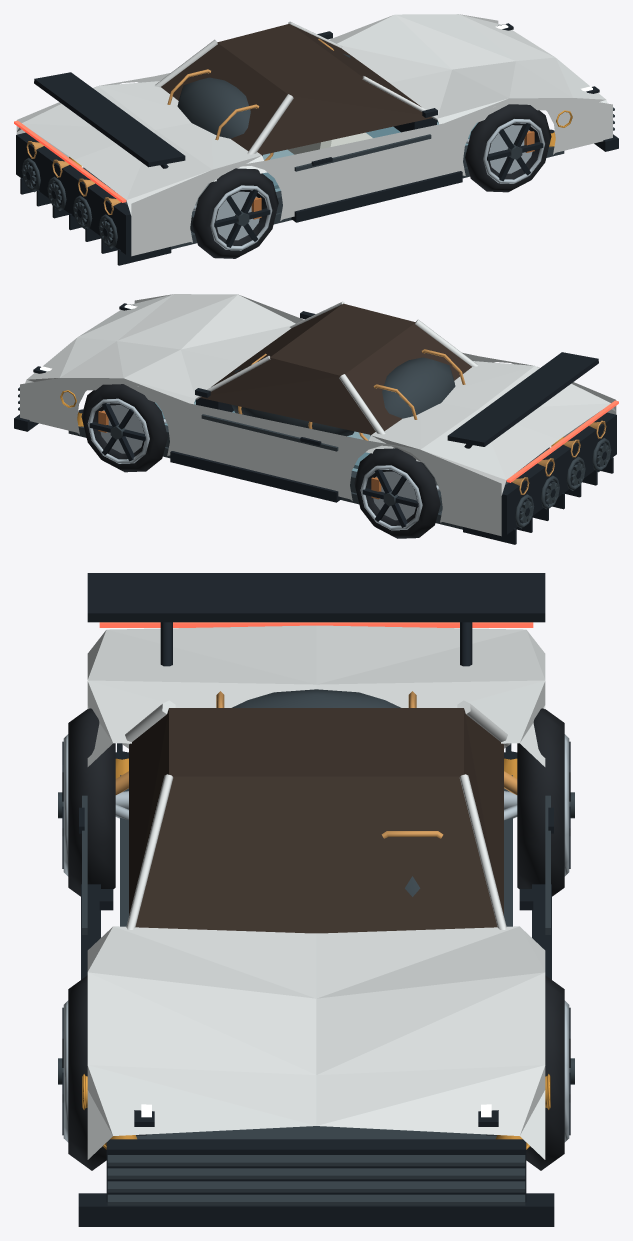
The model's file is roadster-rocket.glb.
3 renders of one model, top to bottom at view 1: azimuth 30°, elevation 25°; view 2: azimuth 150°, elevation 25°; view 3: azimuth 270°, elevation 25°, orthographic. The views are drawn at different scales.
Parts seen in each view (by area): view 1: body, Faceted_side_with_wheel_arches (×2), Faceted_tire (×2), Side_glazing, Glass_roof, Active_rear_wing_schematic, Rear_glass, Rear_fascia, Rear_COPV_200L_schematic, Wheel_rim (×2), Brake_disc (×2), canopy (+7 smaller); view 2: body, Faceted_side_with_wheel_arches (×2), Faceted_tire (×2), Side_glazing, Glass_roof, Active_rear_wing_schematic, Rear_glass, Rear_fascia, Rear_COPV_200L_schematic, Wheel_rim (×2), Brake_disc (×2), canopy (+8 smaller); view 3: body, Windshield, Active_rear_wing_schematic, Faceted_tire (×4), Glass_roof, Front_splitter, Front_intake, Side_glazing (×2), canopy, Carbon_floor, Rear_COPV_200L_schematic, Full_width_tail_light (+2 smaller).
Boxes of the visible parts, x1,y1,x2,y2 form: body: (17,14,614,222); Faceted_side_with_wheel_arches (×2): (16,14,612,256); Faceted_tire (×2): (192,104,551,258); Side_glazing: (257,78,432,154); Glass_roof: (217,23,362,95); Active_rear_wing_schematic: (34,72,185,167); Rear_glass: (161,43,287,150); Rear_fascia: (16,132,131,254); Rear_COPV_200L_schematic: (177,77,262,155); Wheel_rim (×2): (210,119,545,250); Brake_disc (×2): (216,125,532,240); canopy: (155,21,436,154); body: (18,294,615,502); Faceted_side_with_wheel_arches (×2): (20,294,616,536); Faceted_tire (×2): (81,384,440,538); Side_glazing: (200,357,375,434); Glass_roof: (270,303,415,375); Active_rear_wing_schematic: (447,352,598,446); Rear_glass: (345,322,471,430); Rear_fascia: (501,412,616,534); Rear_COPV_200L_schematic: (370,357,455,435); Wheel_rim (×2): (87,398,422,530); Brake_disc (×2): (100,405,416,520); canopy: (196,301,477,434); body: (81,625,551,1205); Windshield: (135,776,497,933); Active_rear_wing_schematic: (87,573,545,622); Faceted_tire (×4): (68,708,564,1170); Glass_roof: (169,708,463,776); Front_splitter: (78,1193,554,1226); Front_intake: (106,1139,526,1202); Side_glazing (×2): (129,709,503,915); canopy: (122,700,510,929); Carbon_floor: (136,1126,496,1139); Rear_COPV_200L_schematic: (232,689,400,707); Full_width_tail_light: (99,622,533,627).
Size of the model in its own units: 5.13 by 1.31 by 2.31.
